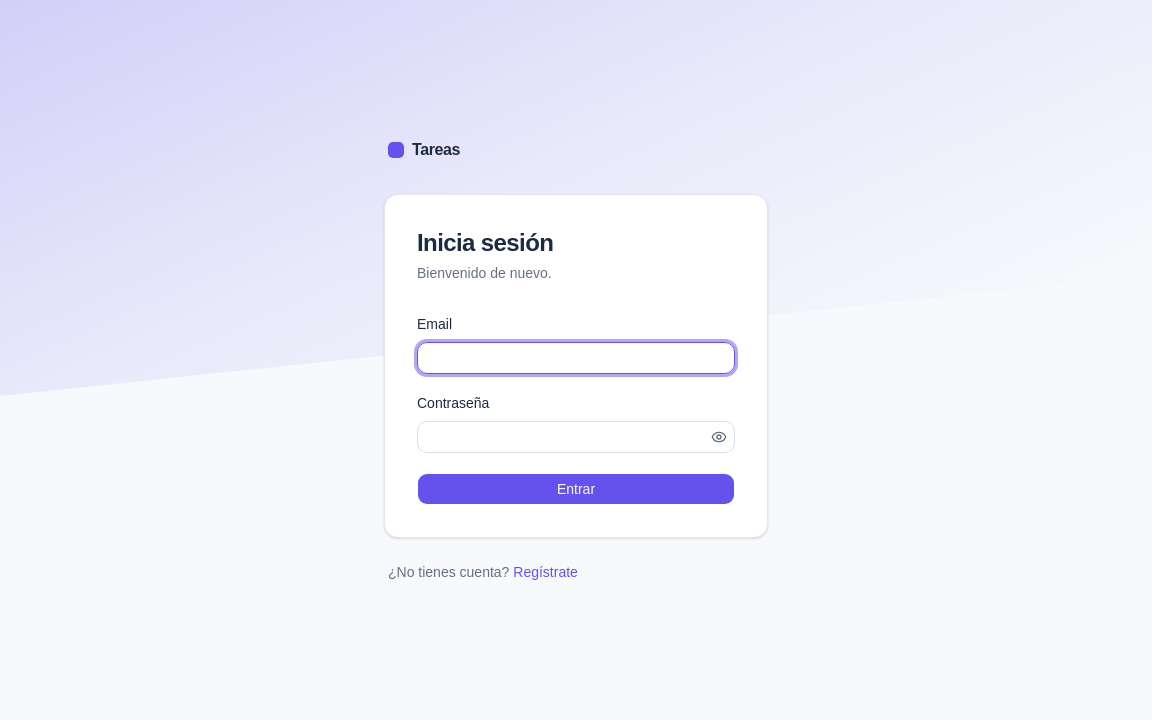
Test case: LoginPage › valida los campos antes de enviar
Click the button "Entrar". click: point(576, 489)
box: [417,473,735,505]
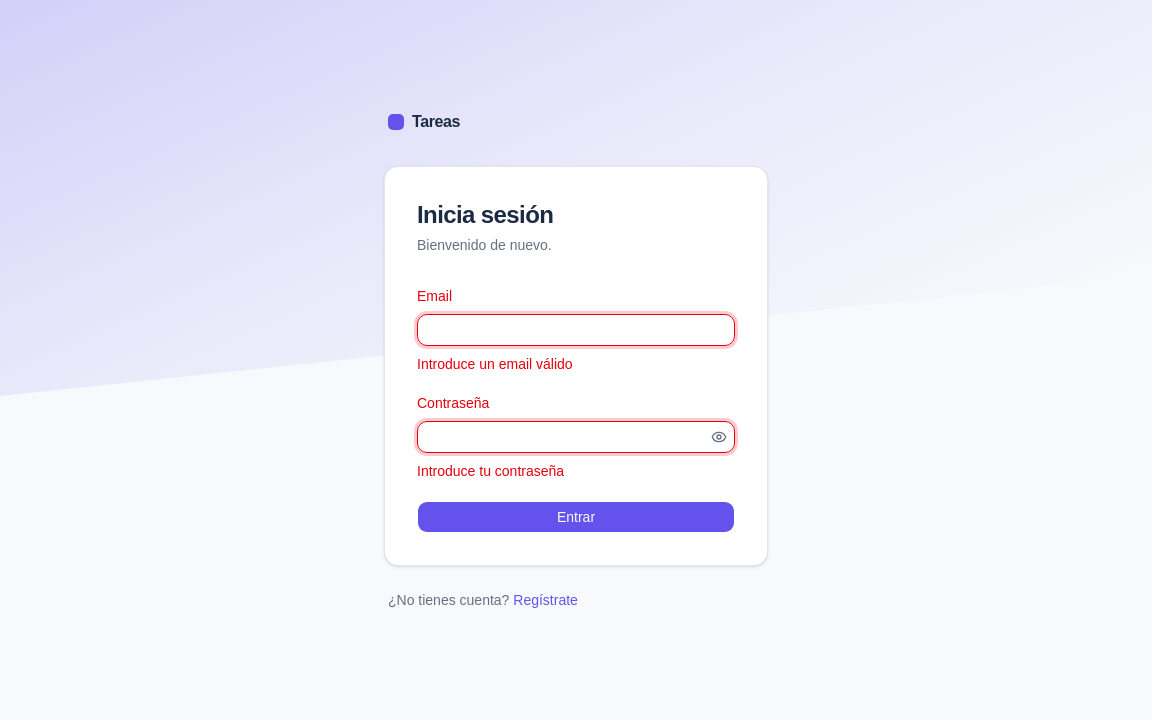
Expected: the text "Introduce un email válido" is shown, [417,356,573,372]
Expected: the text "Introduce tu contraseña" is shown, [417,463,564,479]
